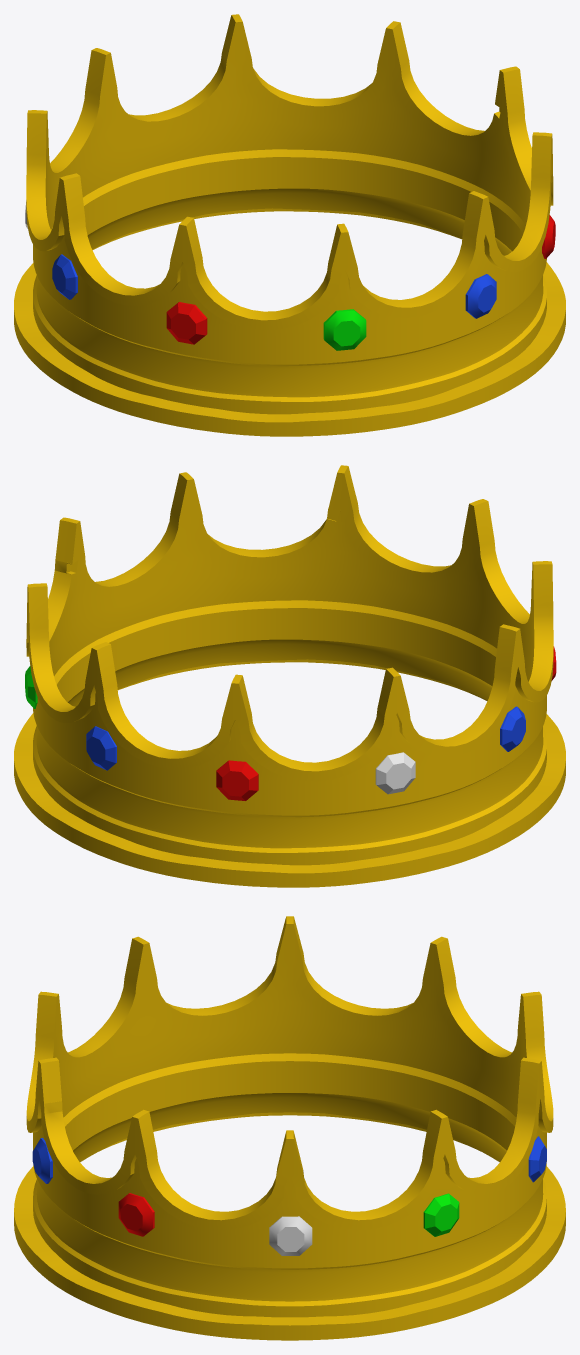
The model's file is gold-crown.glb.
3 views of the same model, one above another, from view 1: azimuth 30°, elevation 25°; view 2: azimuth 150°, elevation 25°; view 3: azimuth 270°, elevation 25° (orthographic).
Parts seen in each view (by area): view 1: Crown; view 2: Crown; view 3: Crown.
Part boxes in pixels (bbox=[...]): Crown: bbox=[14, 14, 565, 436]; Crown: bbox=[14, 465, 565, 887]; Crown: bbox=[14, 916, 565, 1340].
Size of the model in its own units: 1 by 0.3938 by 1.
